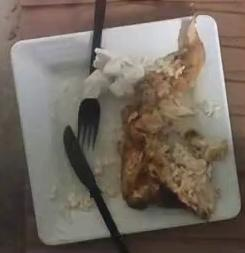chicken: (122, 18, 228, 218)
